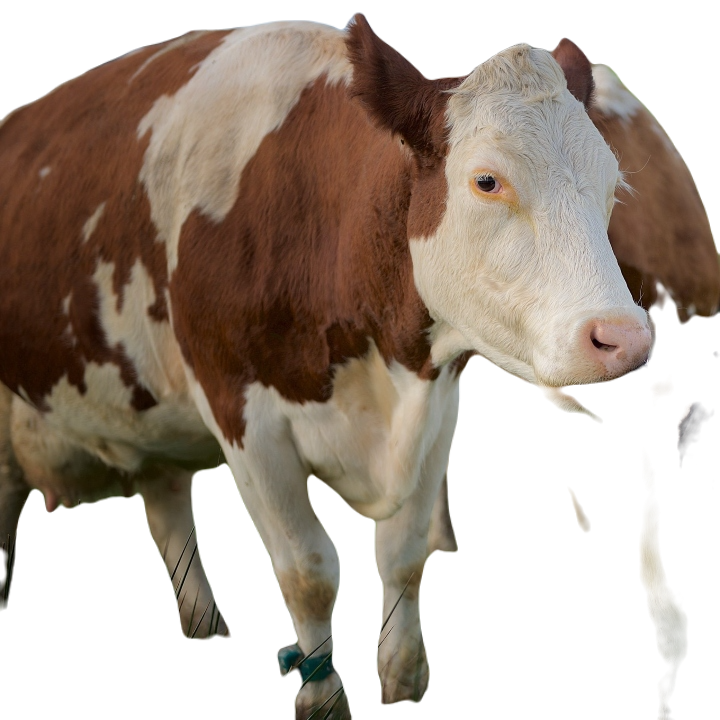Cow: (5, 11, 655, 716)
